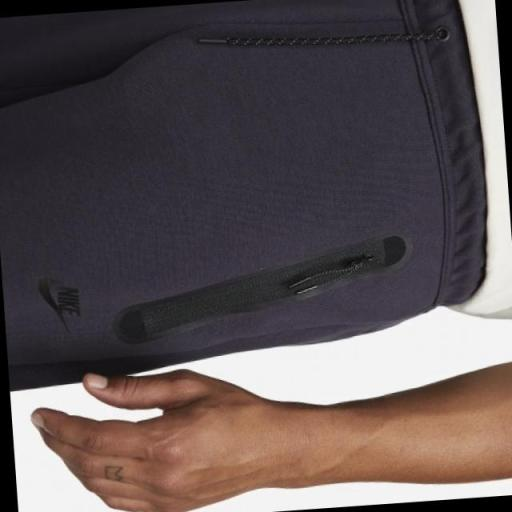Nike: (36, 272, 66, 334), (55, 283, 82, 318)
